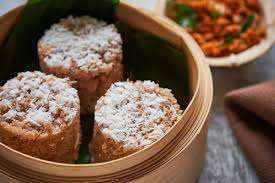pittu: (2, 14, 180, 168)
